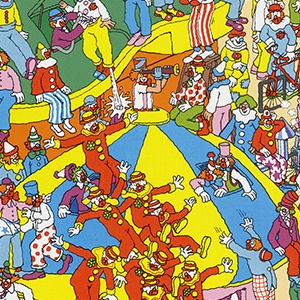Wizard Whitebeard: (97, 122, 203, 178)
